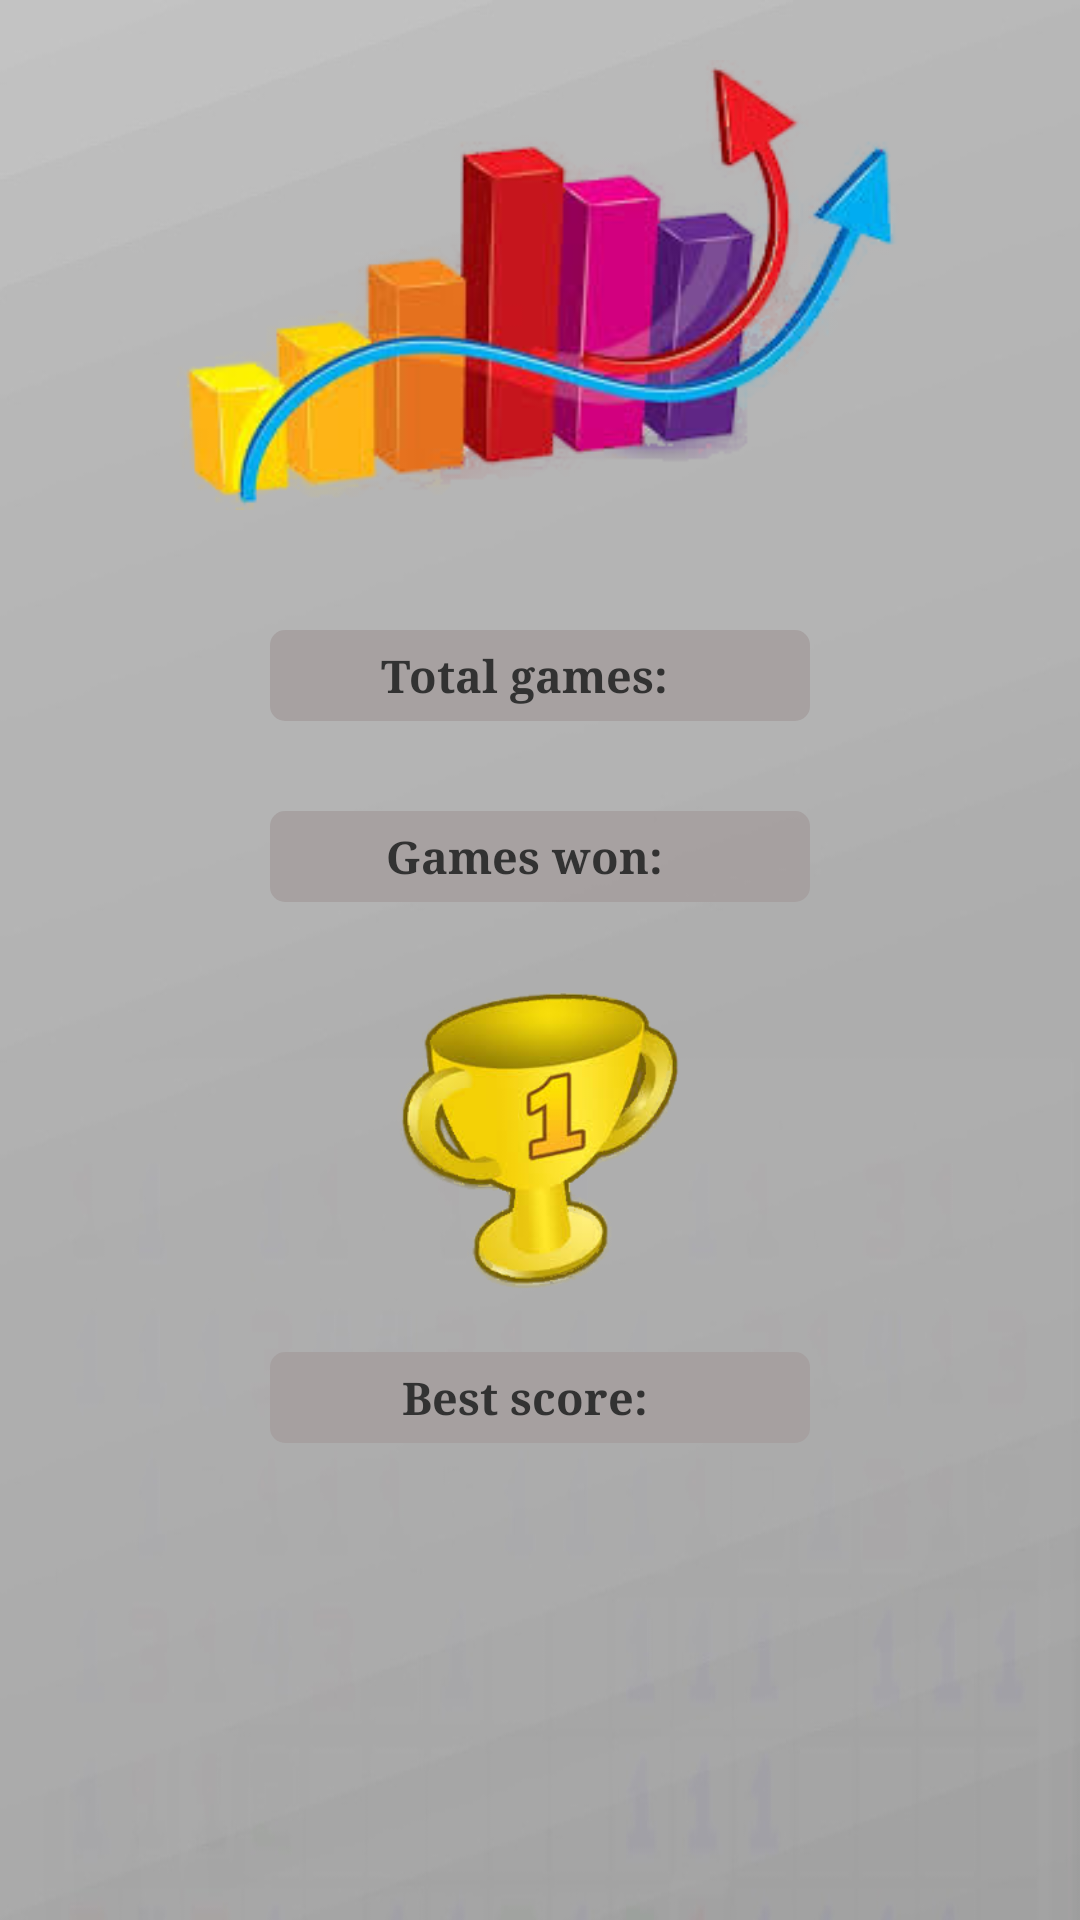

Point at icon controls on the screen. Image size 1080w x 1920h, points as (x,y).
one place: (540,1140)
